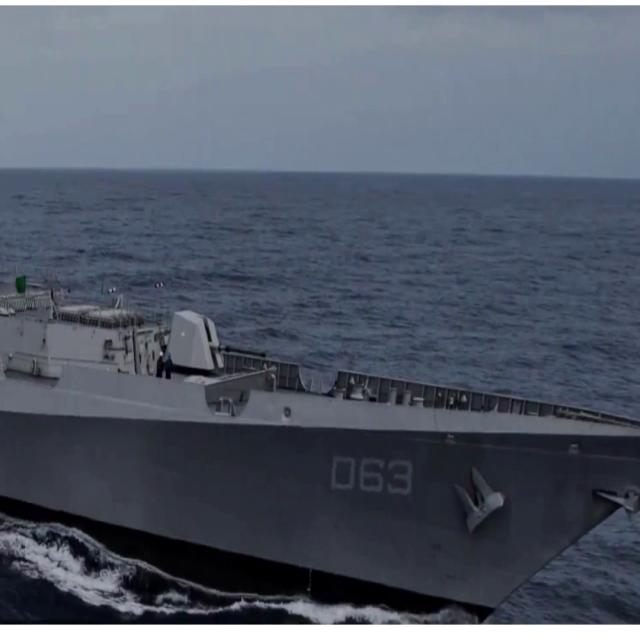OCR: (328, 451, 416, 511)
